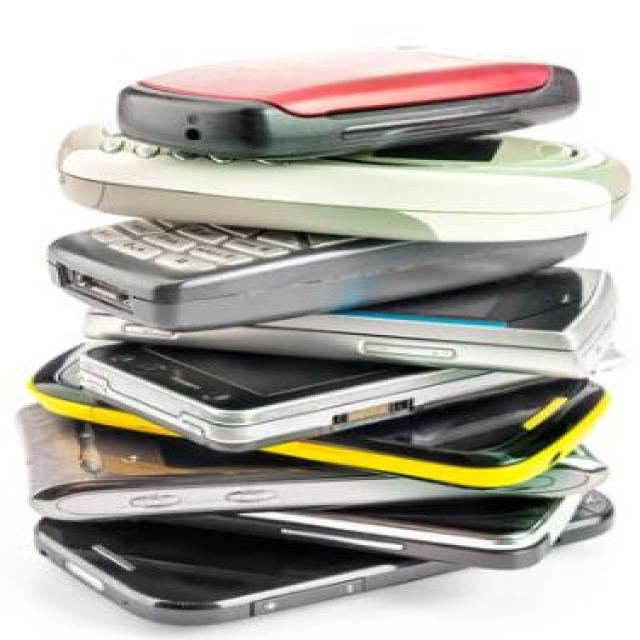electronic: (55, 224, 640, 395), (51, 338, 621, 496), (0, 186, 621, 328), (37, 109, 640, 242), (0, 389, 629, 512), (0, 482, 454, 630), (39, 311, 632, 422), (92, 62, 614, 177)
